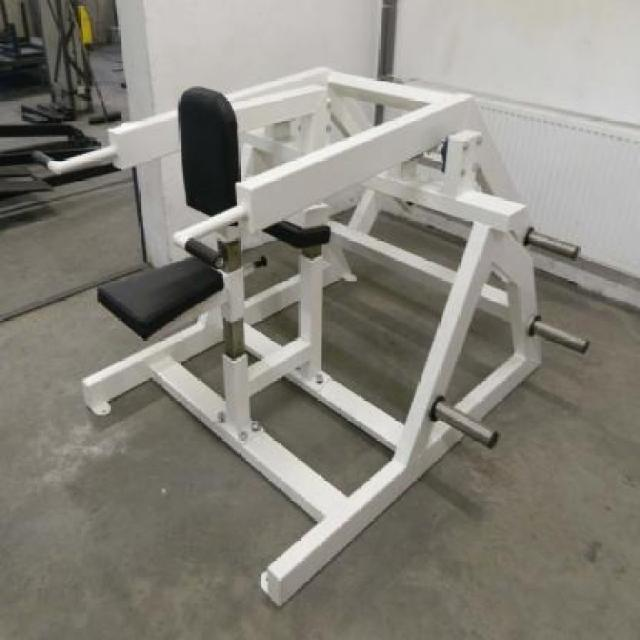seated dip machine: (31, 64, 589, 610)
